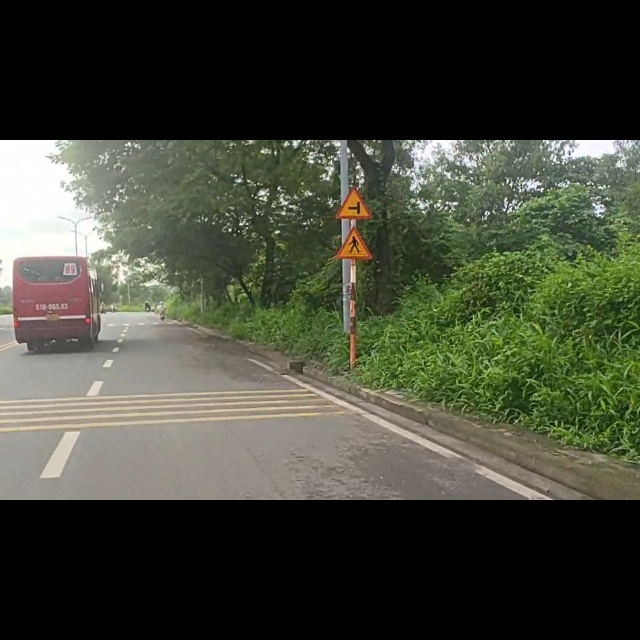bien_nguy_hiem: (331, 149, 377, 217), (335, 82, 378, 141)
